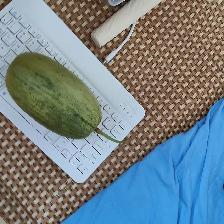gua: (17, 56, 106, 148)
